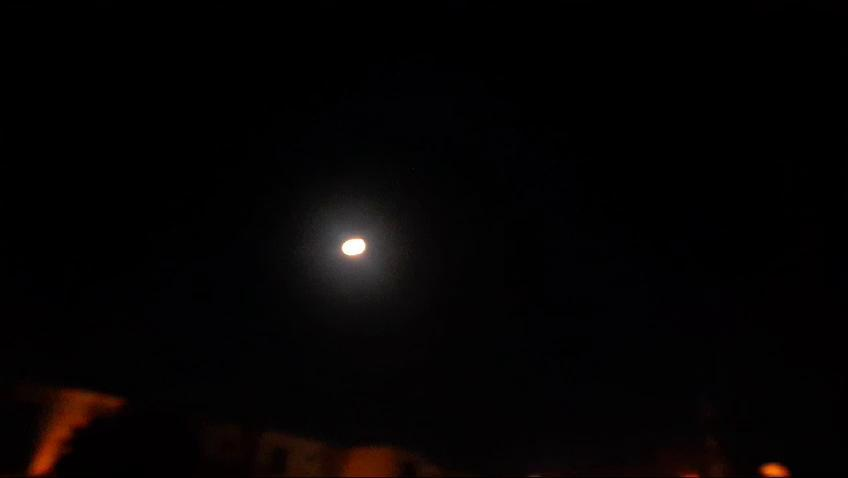moon: (326, 230, 355, 260)
